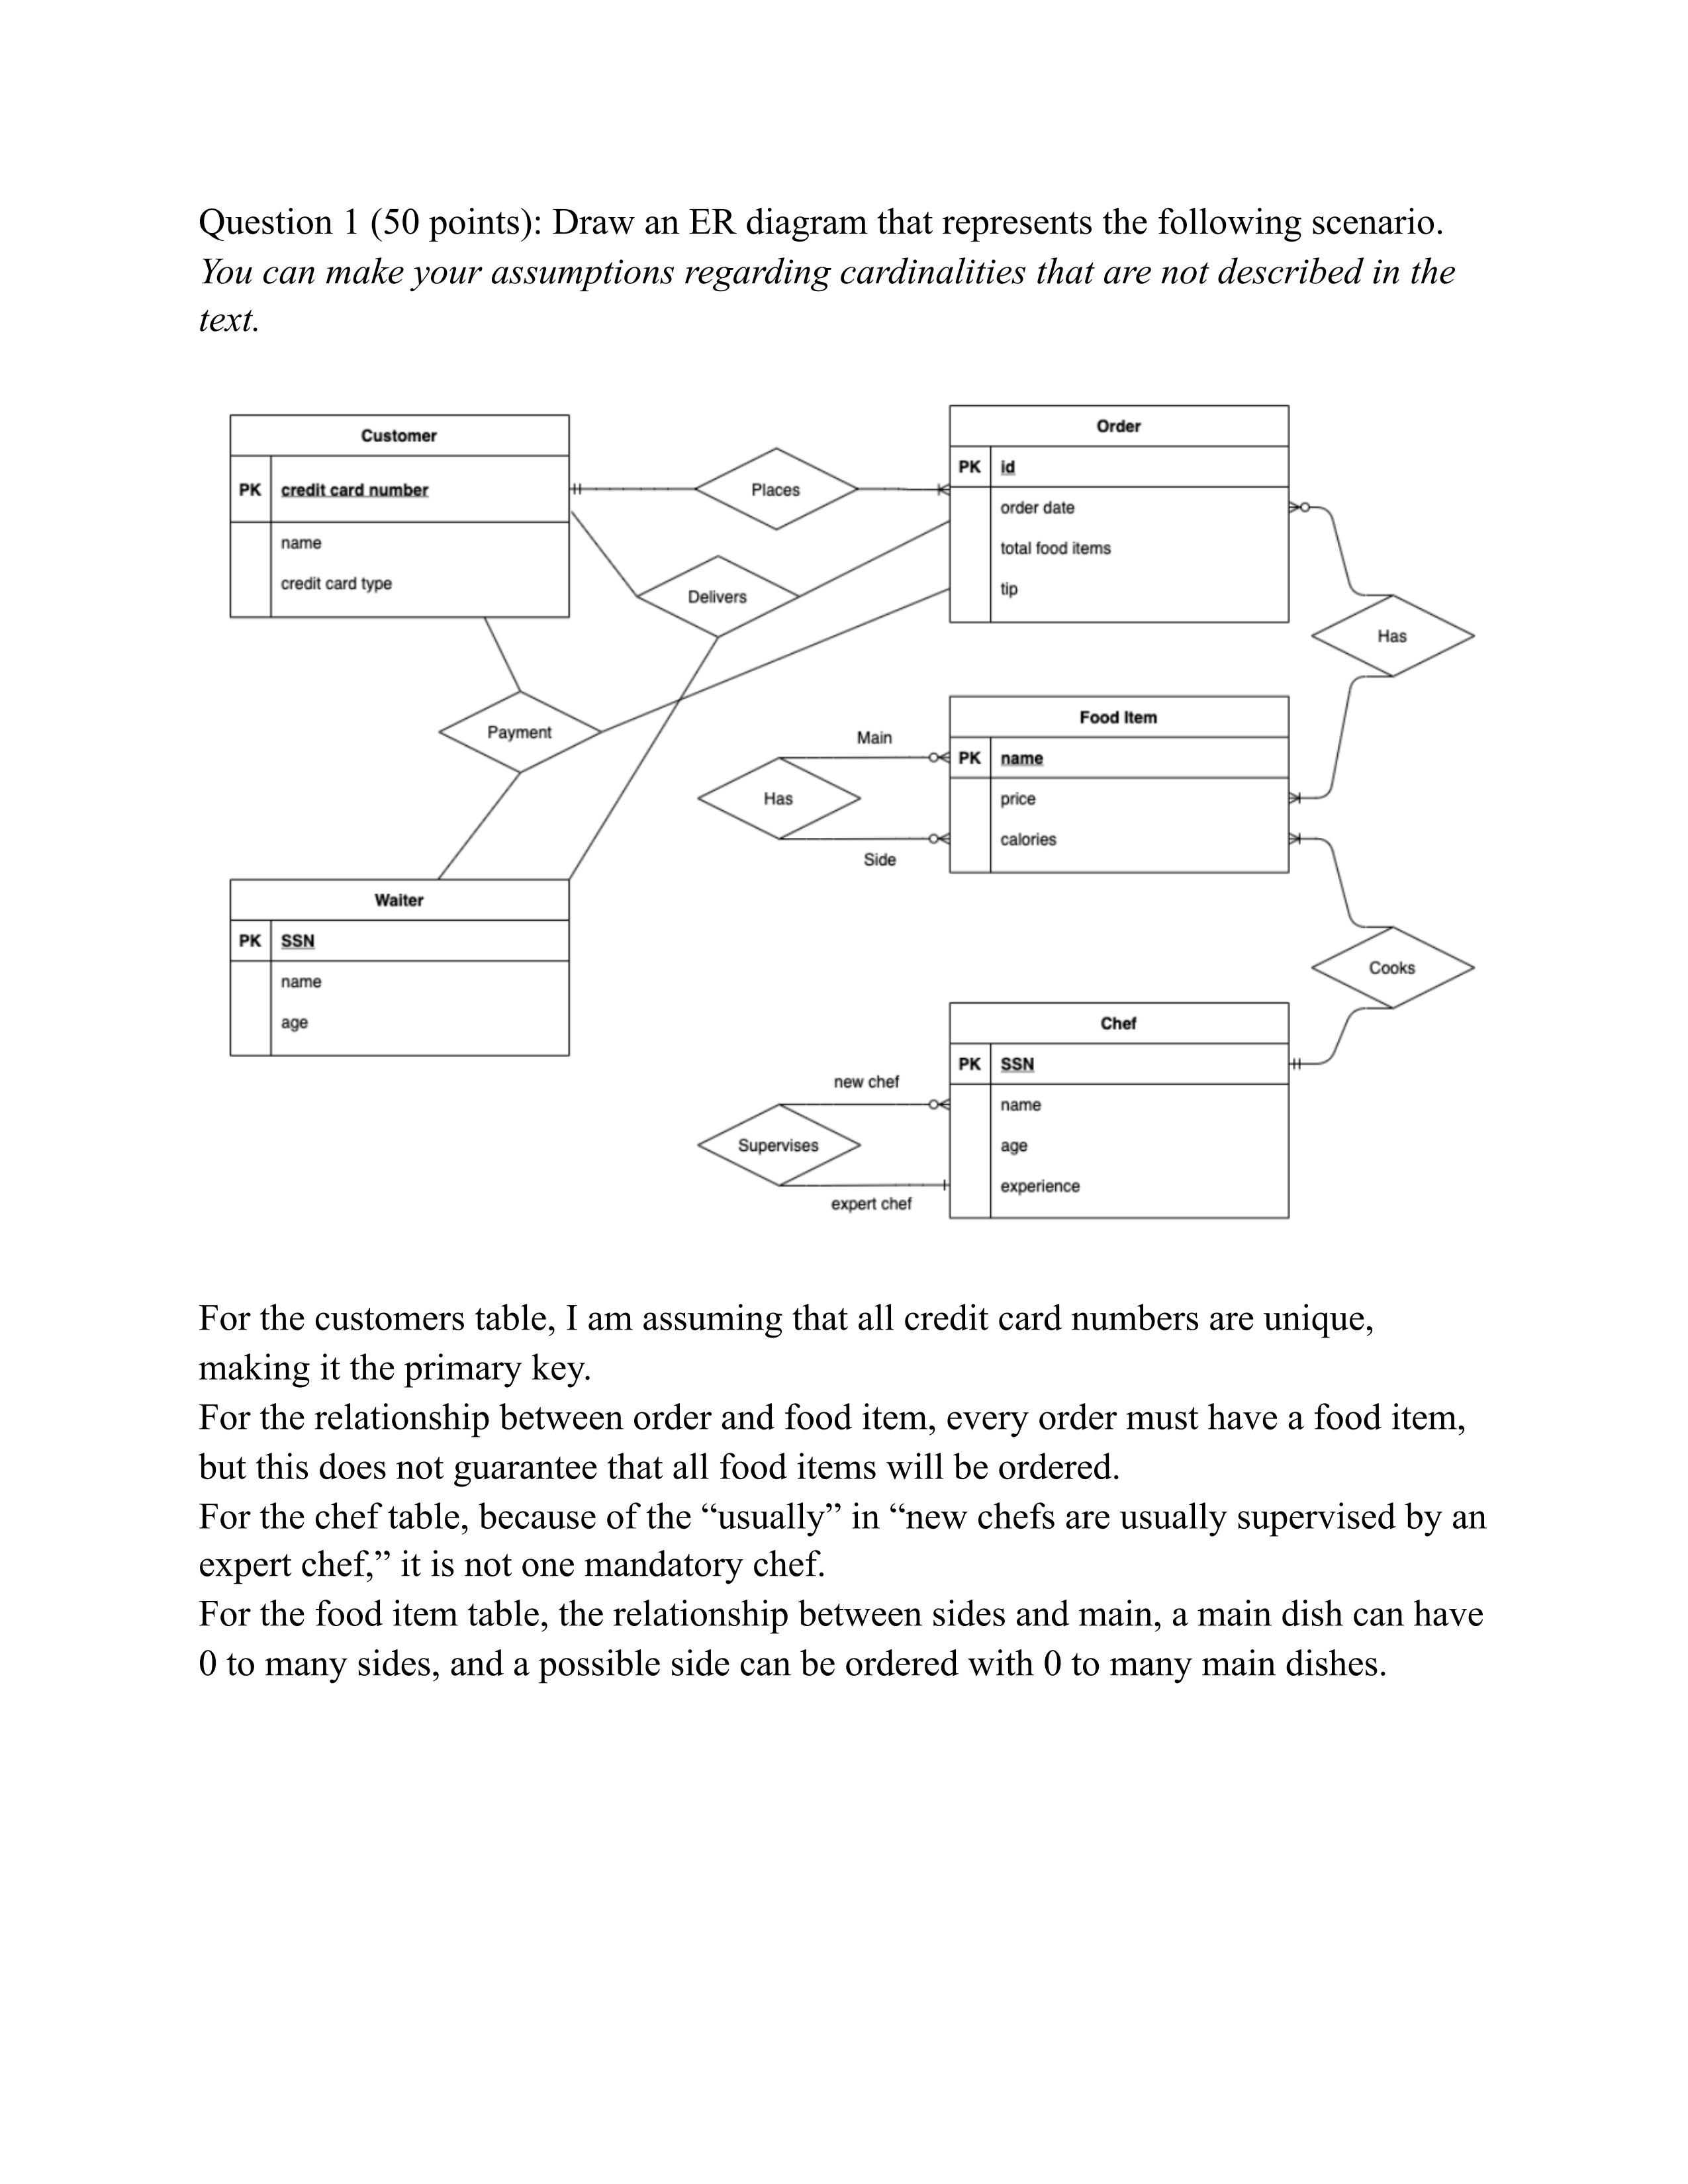Entity: (949, 404, 1291, 626), (949, 1000, 1291, 1221), (229, 413, 571, 619), (229, 877, 571, 1058), (947, 695, 1291, 874)
Relationship: (693, 447, 862, 532), (697, 1104, 862, 1186), (697, 757, 862, 838), (1309, 597, 1477, 677), (438, 691, 601, 773), (1312, 925, 1473, 1007), (637, 555, 798, 636)
